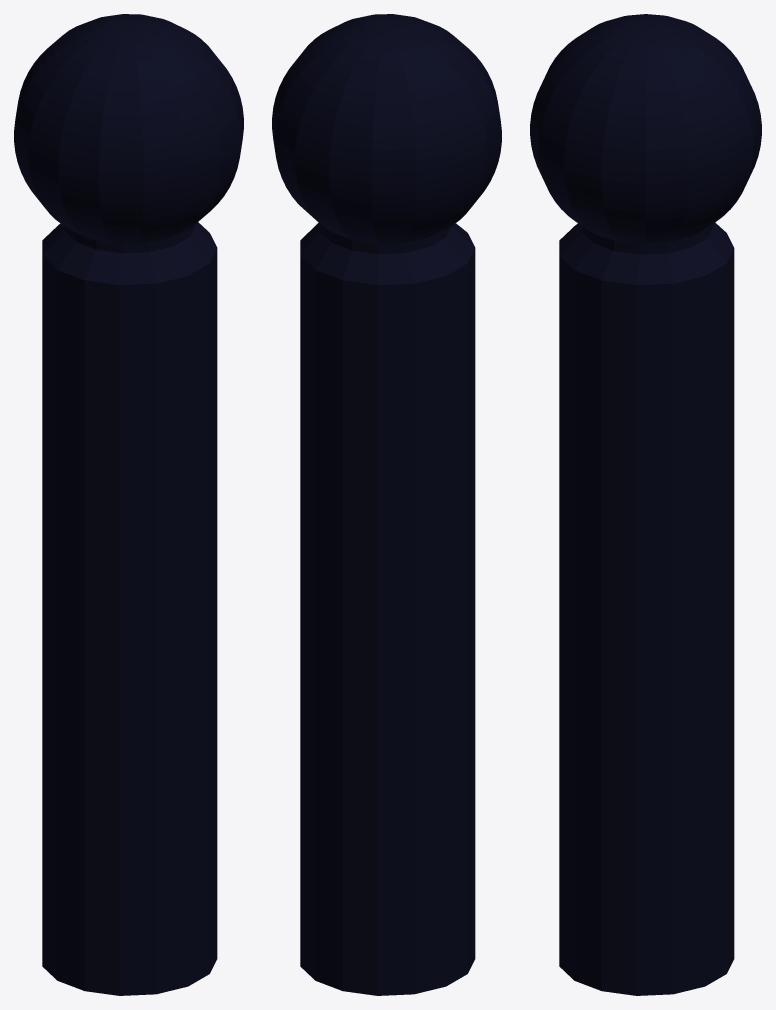
Rendered from Poteau.fbx.
3 renders of one model, left to right at view 1: azimuth 30°, elevation 25°; view 2: azimuth 150°, elevation 25°; view 3: azimuth 270°, elevation 25°, orthographic.
Parts seen in each view (by area): view 1: Poteau; view 2: Poteau; view 3: Poteau.
Part boxes in pixels (box(x1,y1,x2,y2)): Poteau: box(14, 14, 243, 995); Poteau: box(272, 14, 501, 995); Poteau: box(530, 14, 761, 995).
Bounding box in the file's own units: 87.97 × 391 × 87.97.
